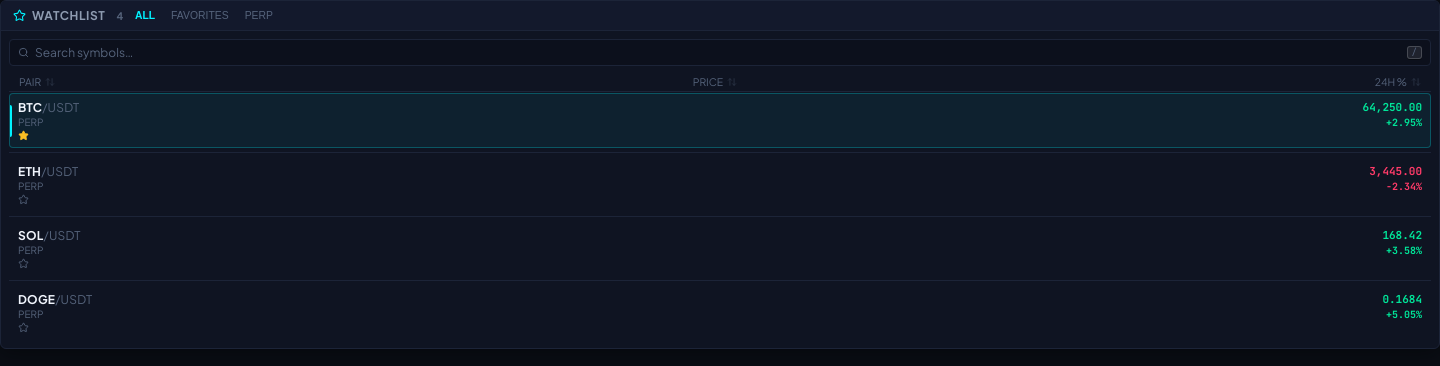
Test: WatchlistPanel Feature with Zustand State Management › filters symbols when typing into search bar
Type "sol" into the field labelled "Search symbols" at {"x": 718, "y": 52}, box [35, 45, 1401, 60]
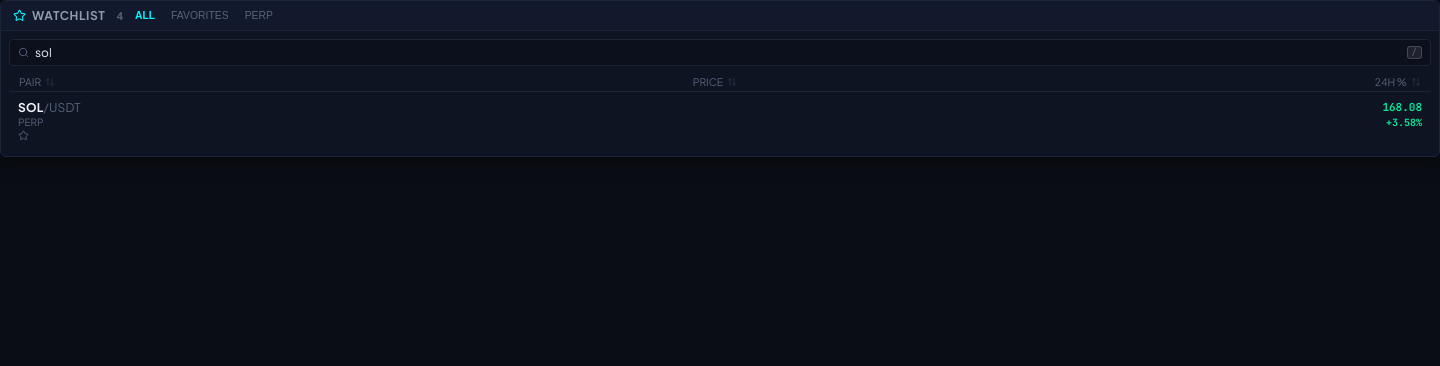
Expected: the button with test id "watchlist-item-SOL" is shown, [9, 93, 1431, 148]
Expected: the button with test id "watchlist-item-BTC" is gone
